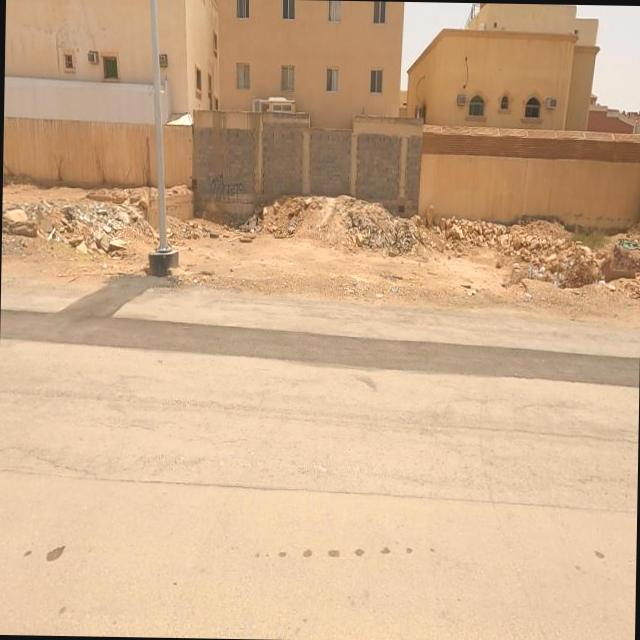debris: (496, 225, 576, 336), (222, 176, 282, 266), (28, 190, 86, 272), (588, 203, 640, 290), (61, 210, 117, 284)
